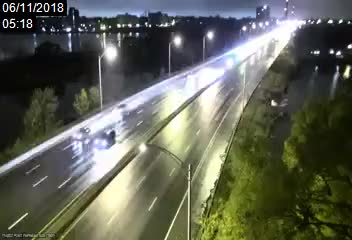personal_car: (94, 129, 115, 149), (72, 126, 91, 142)
